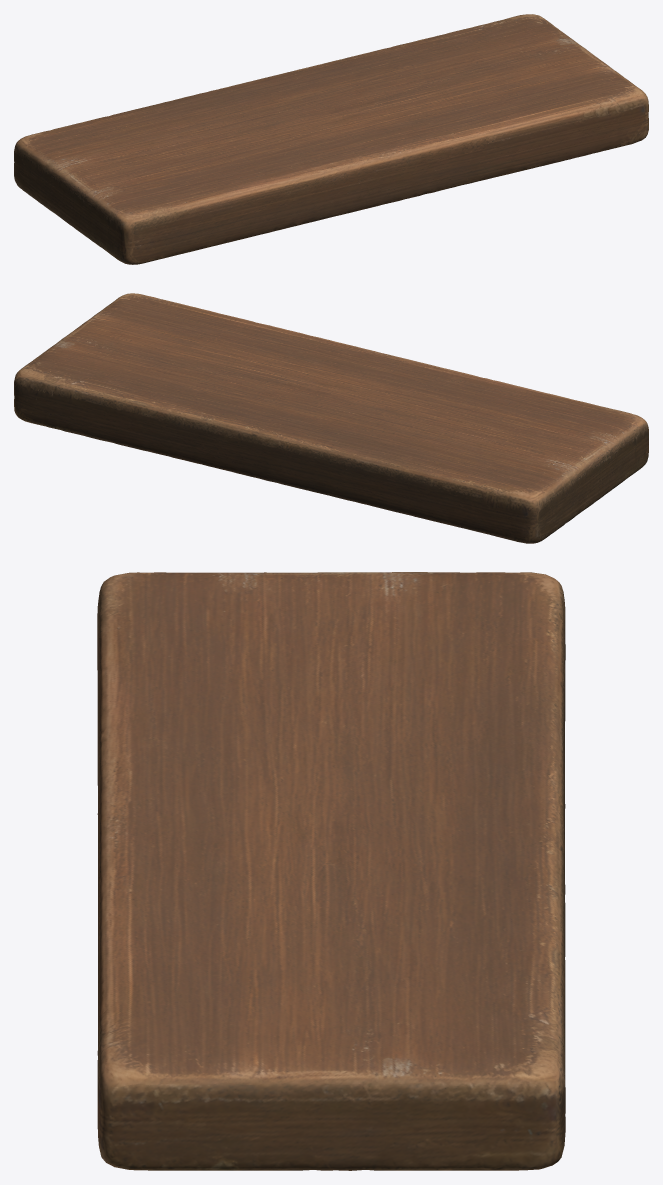
File: Furn_GreenhouseCenterShelf_Top.fbx
3 renders of one model, top to bottom at view 1: azimuth 30°, elevation 25°; view 2: azimuth 150°, elevation 25°; view 3: azimuth 270°, elevation 25°, orthographic. The views are drawn at different scales.
Visible parts, largest first — view 1: texture_mapping; view 2: texture_mapping; view 3: texture_mapping.
Part boxes in pixels (x1,y1,x2,y2): texture_mapping: (14, 14, 648, 264); texture_mapping: (14, 293, 648, 543); texture_mapping: (97, 572, 565, 1170).
Bounding box in the file's own units: 1 × 0.385 × 0.0908.
Materials: 1 (1 with a texture image).
